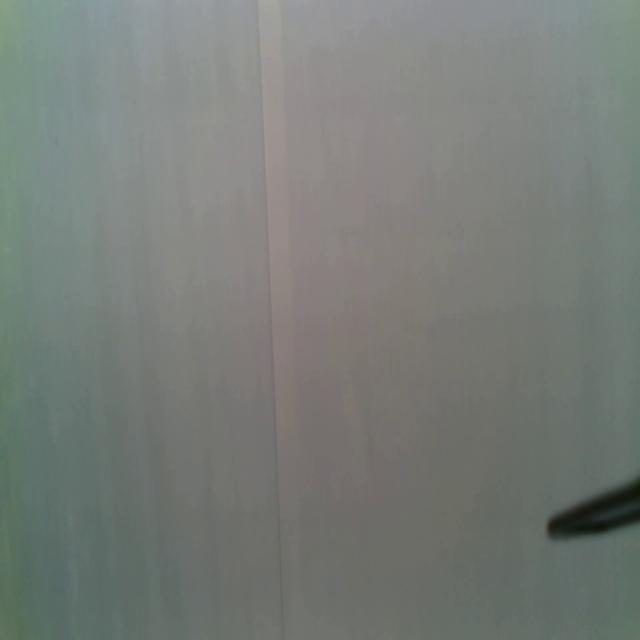crease: (258, 0, 285, 636)
